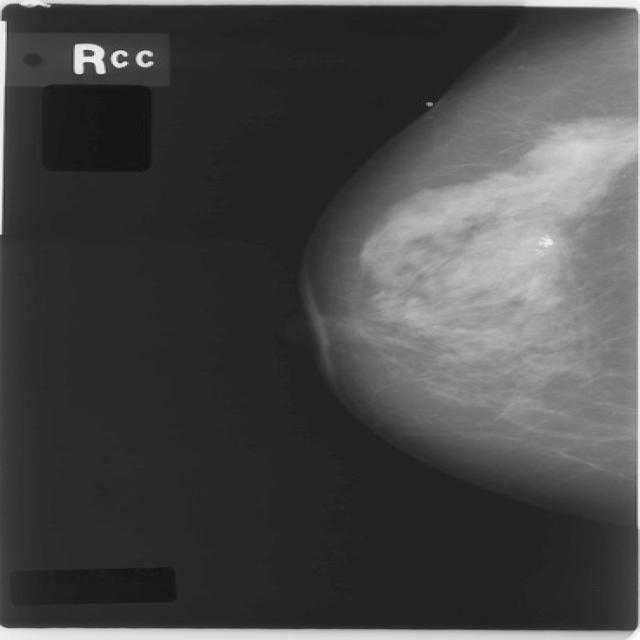tumour: (513, 116, 630, 188)
